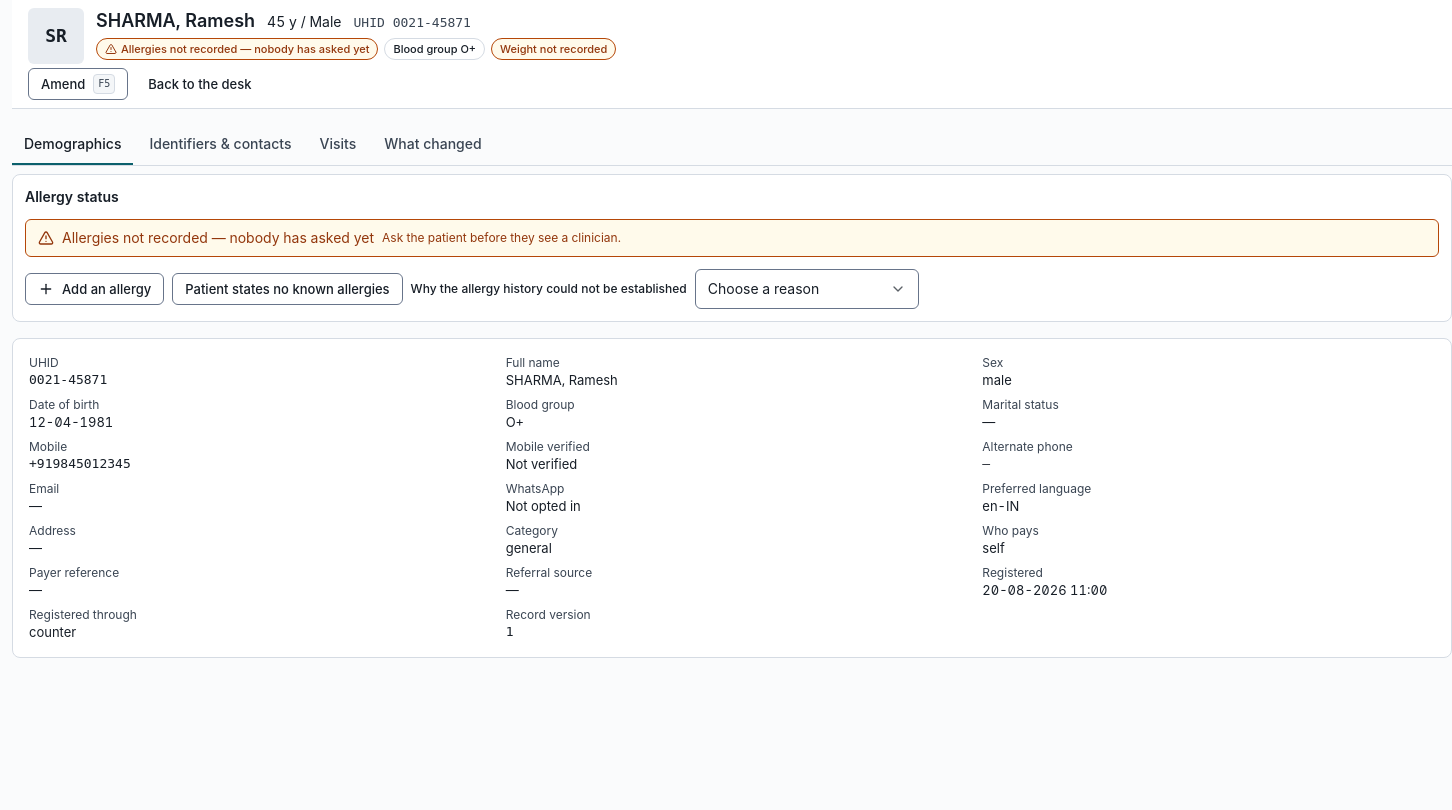
Test: the record’s own history › shows what changed, from what to what, and why
Note: Radix activates a tab on `mousedown`, not on `click`.
Press the mouse on the tab "What changed" at (433,145), box [372,125,494,165]
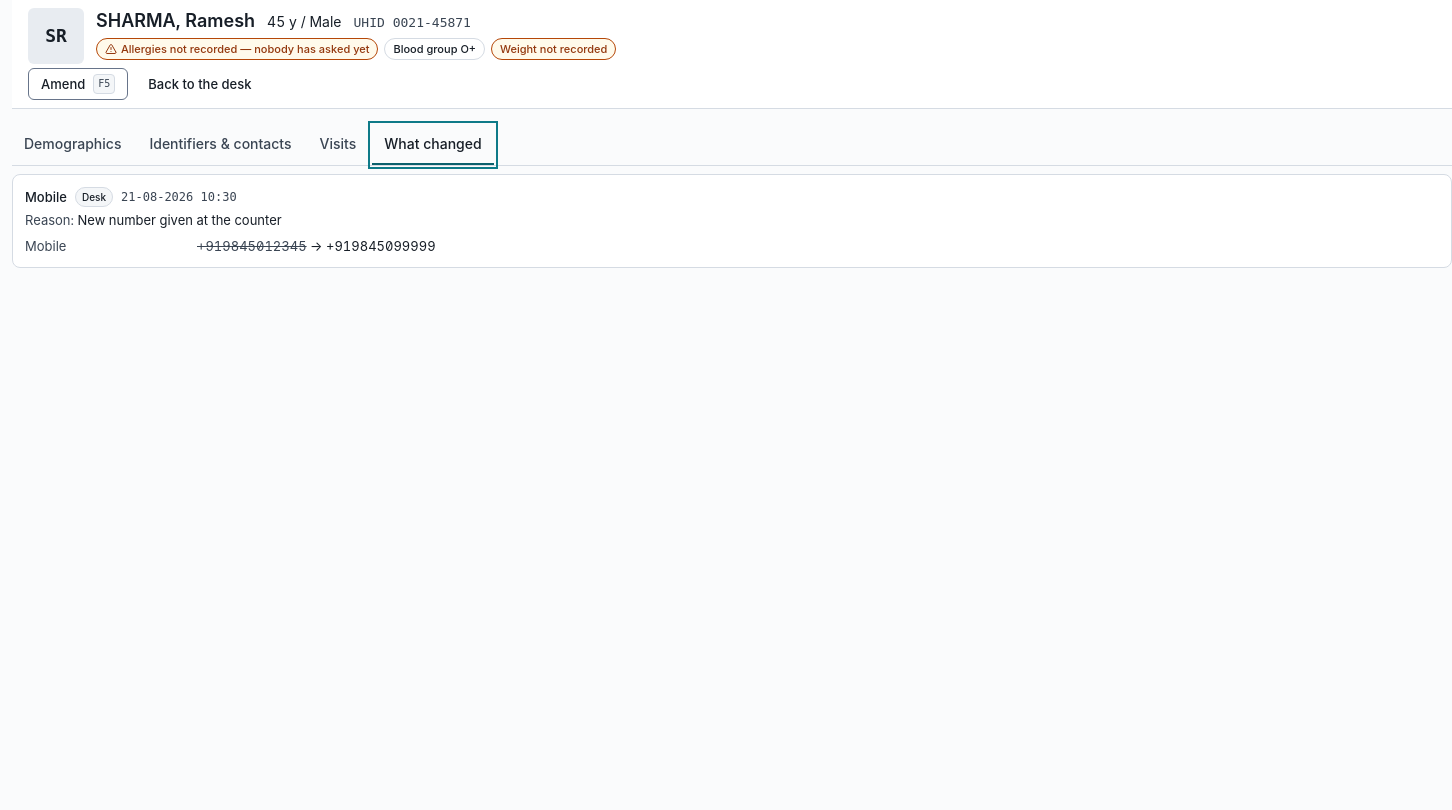
Expected: the list with test id "demographic-history" shows "Mobile", [25,189,67,205]
Expected: the list with test id "demographic-history" shows "New number given at the counter", [78,212,282,228]
